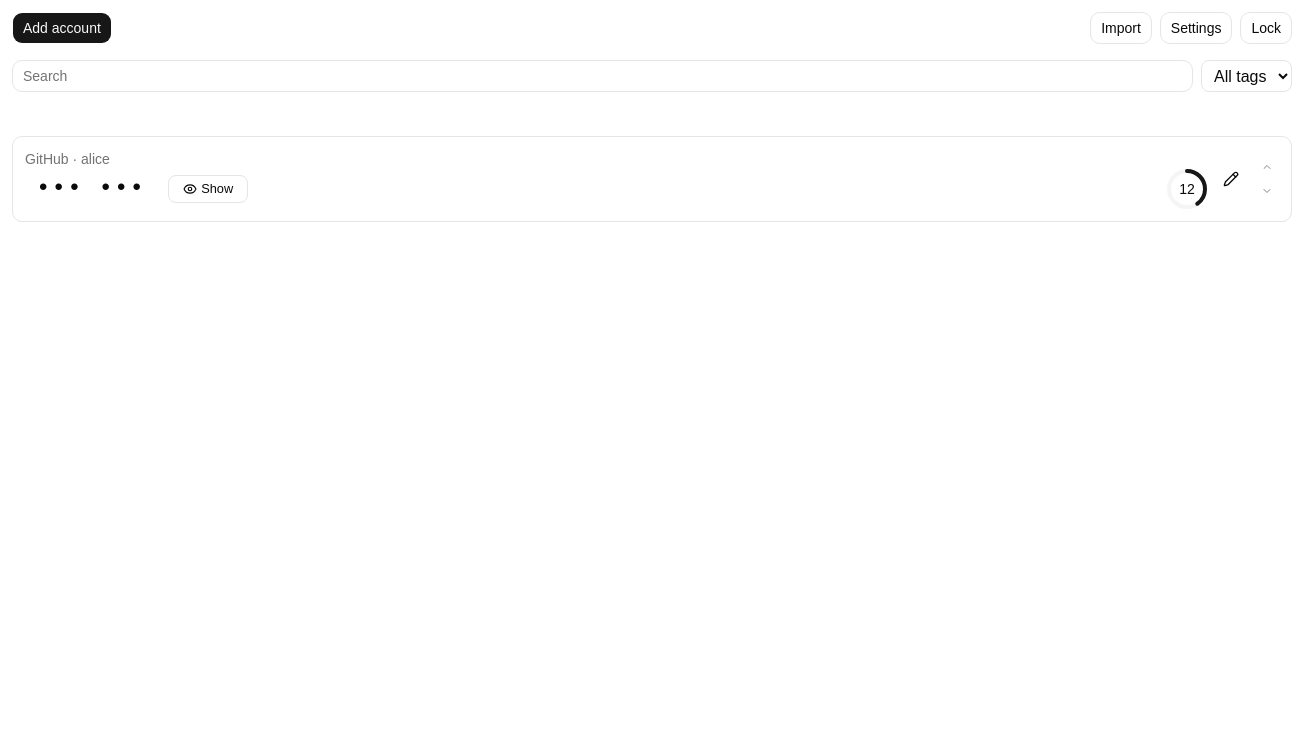
Test: OpenVault › opens the edit form for the chosen account and returns after saving
Click the button named "Edit GitHub · alice" at (1231,179), box [1215, 163, 1247, 195]
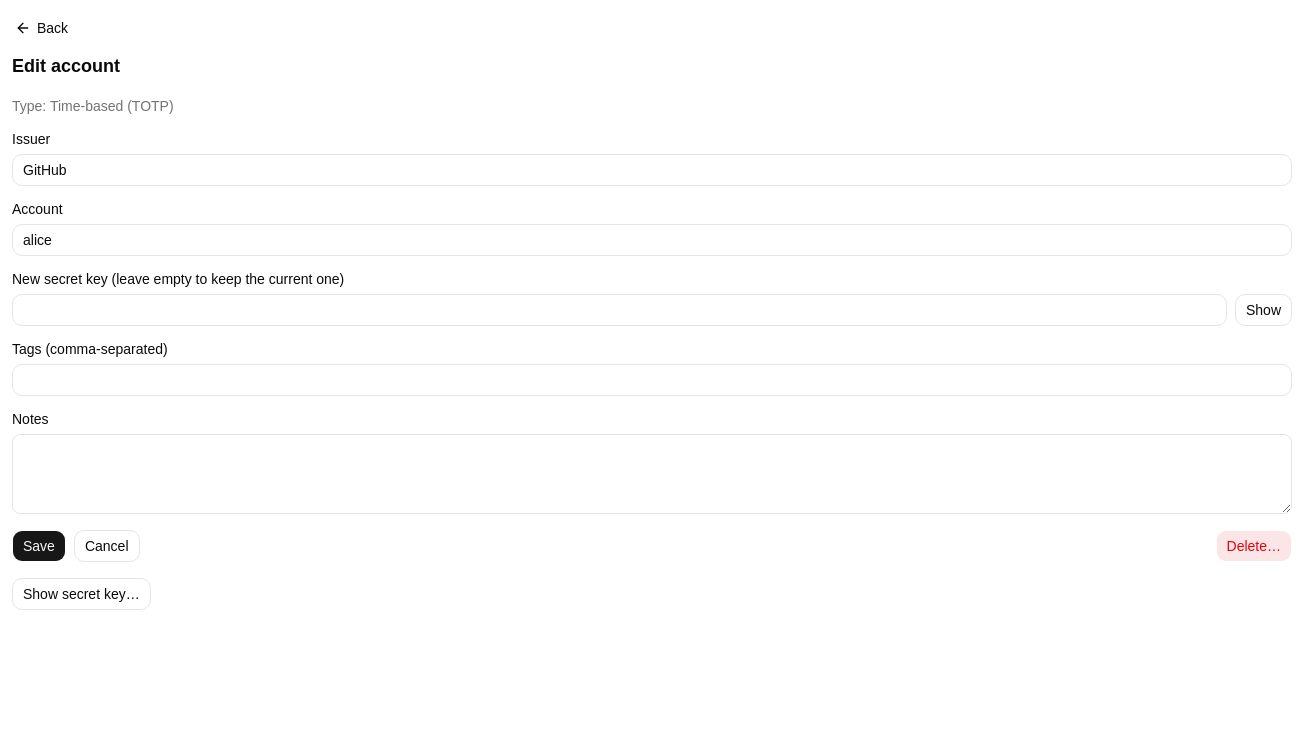
Check: the field labelled "Issuer" holds "GitHub", box [12, 154, 1292, 186]
Type "!" into the field labelled "Account" at (652,240), box [12, 224, 1292, 256]
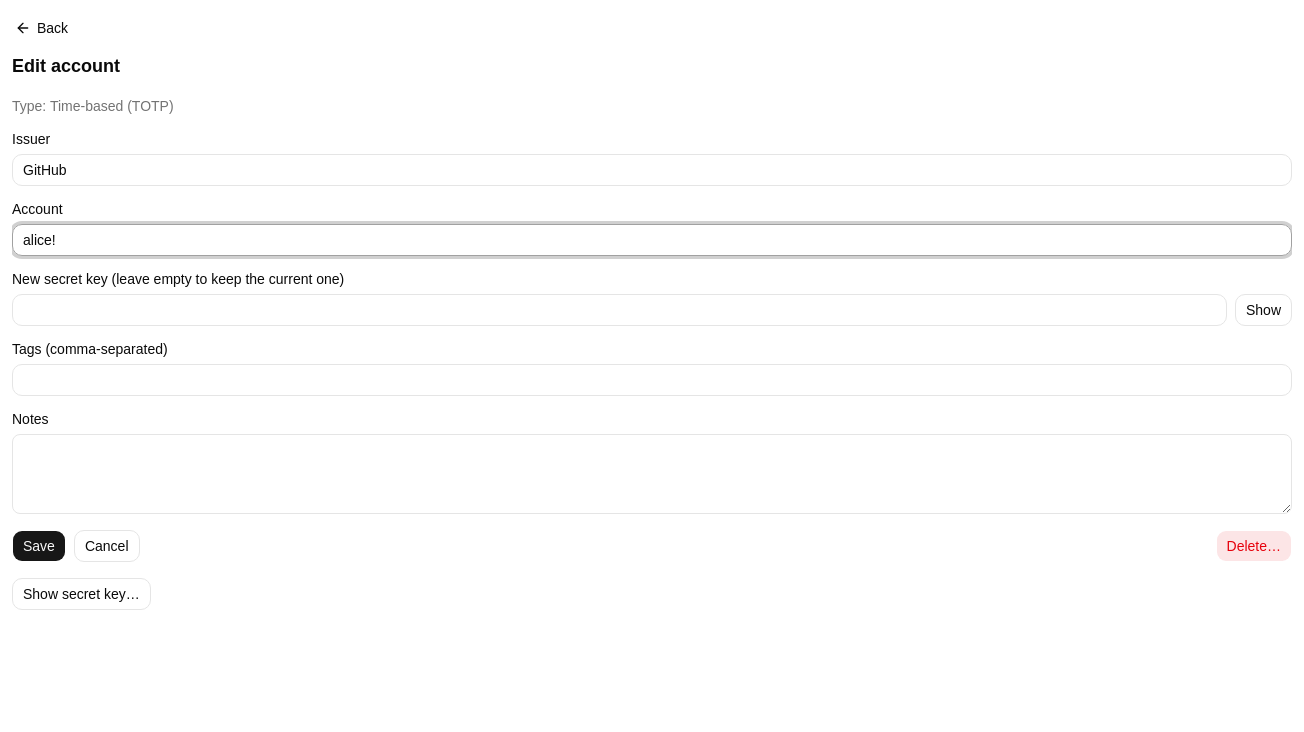
Click the button "Save" at (39,546), box [12, 530, 66, 562]
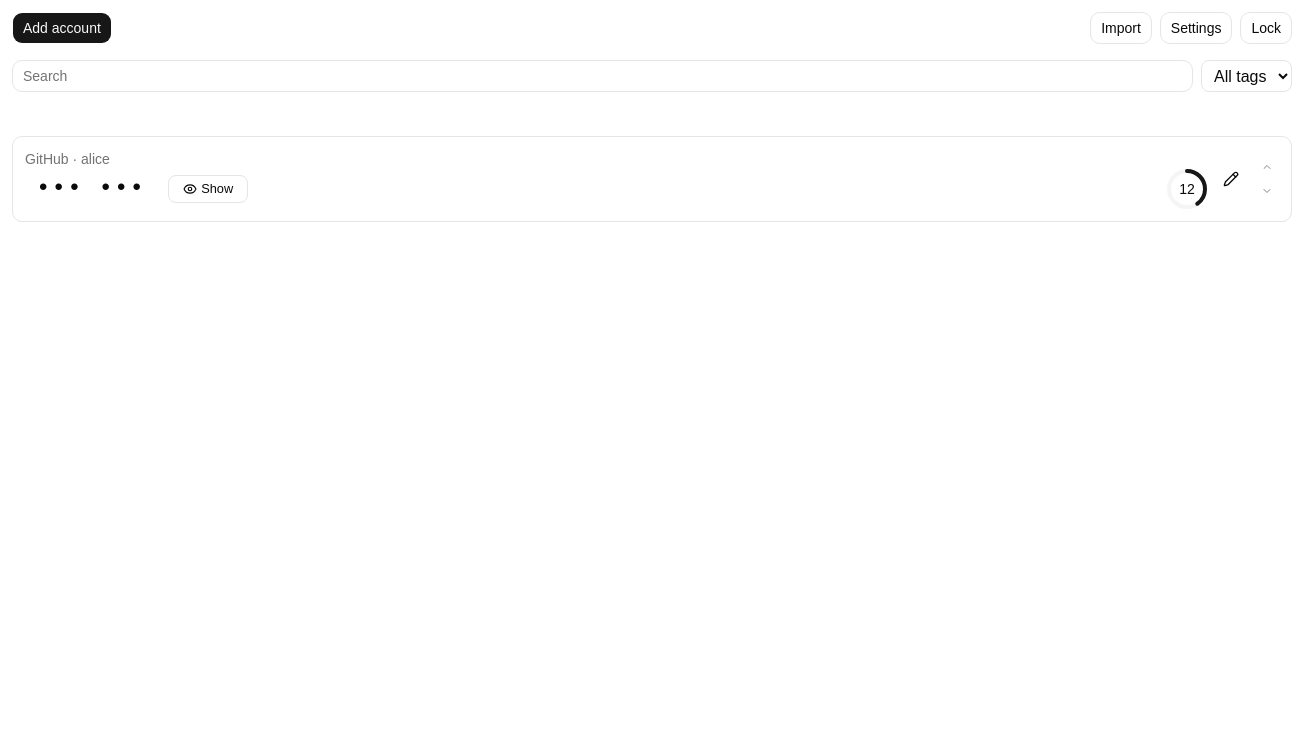
Check: the button "Add account" is shown, box [12, 12, 112, 44]
